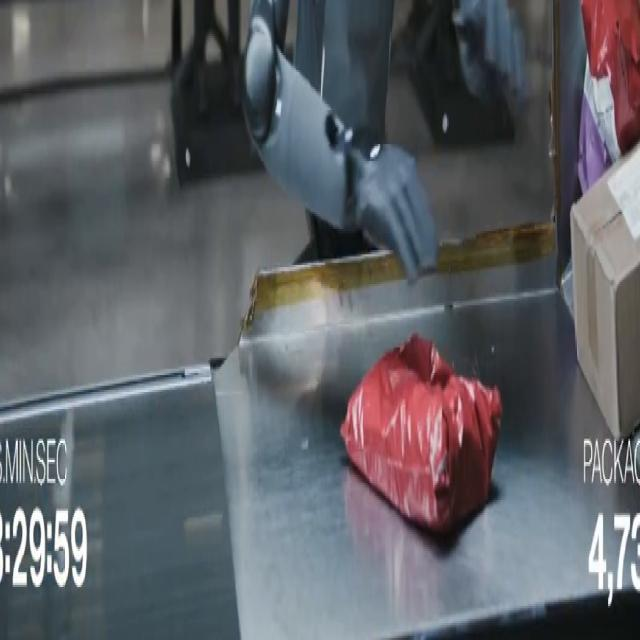package: (341, 335, 502, 534), (571, 147, 639, 438), (581, 0, 639, 154), (578, 60, 620, 192)
